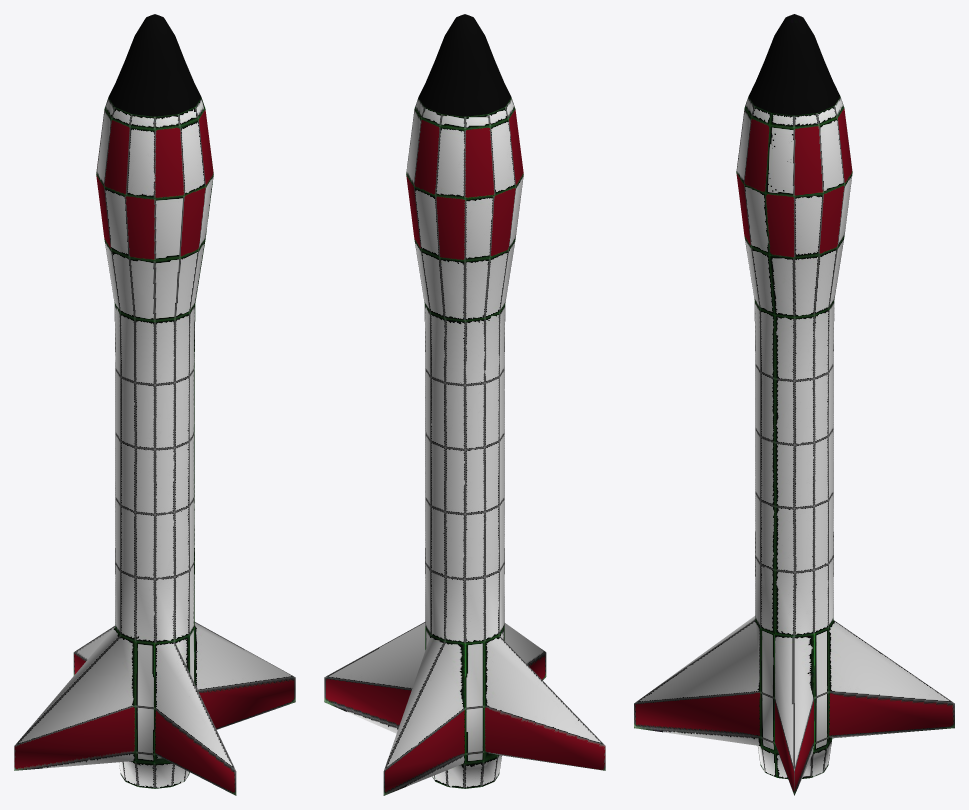
Rendered from missile.obj.
3 renders of one model, left to right at view 1: azimuth 30°, elevation 25°; view 2: azimuth 150°, elevation 25°; view 3: azimuth 270°, elevation 25°, orthographic.
Visible parts, largest first — view 1: Missile; view 2: Missile; view 3: Missile.
Boxes of the visible parts, left/top/right/bottom form: Missile: left=14, top=14, right=295, bottom=795; Missile: left=324, top=14, right=605, bottom=795; Missile: left=634, top=14, right=954, bottom=795.
Bounding box in the file's own units: 40.95 × 106 × 40.95.
Materials: 1 (1 with a texture image).
